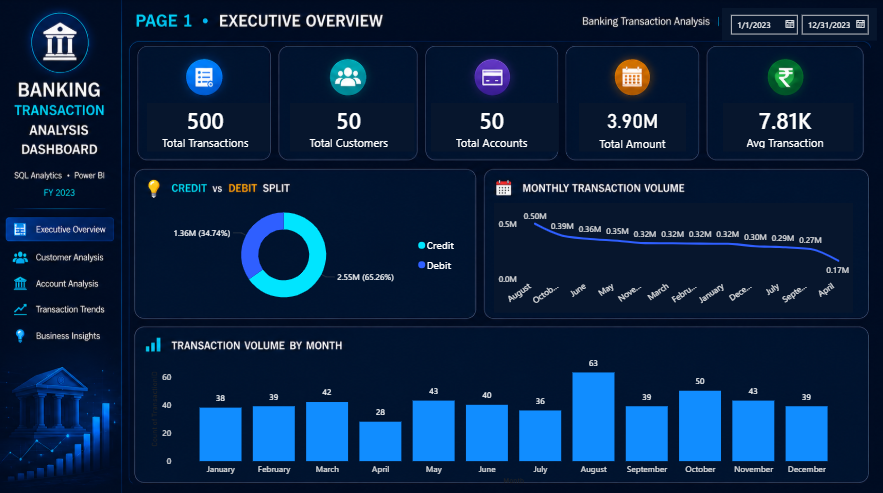

The page's visual inventory and layout, read from the dashboard file:
{"tool":"powerbi","page":{"name":"Page 1","canvas":[1280,720],"ordinal":0},"visuals":[{"type":"cardVisual","fields":{"Data":["banking_transactions.Total Transactions"]},"box":[212.9,150,177.1,70],"z":0},{"type":"cardVisual","fields":{"Data":["banking_transactions.Total Customers"]},"box":[418.6,150,178.6,70],"z":1000},{"type":"cardVisual","fields":{"Data":["banking_transactions.Total Accounts"]},"box":[621.4,150,184.3,70],"z":2000},{"type":"cardVisual","fields":{"Data":["banking_transactions.Avg Transaction"]},"box":[1042,150,188,70],"z":3000},{"type":"donutChart","fields":{"Category":["banking_transactions.TransactionType"],"Y":["Sum(banking_transactions.Amount)"]},"box":[213.3,285,456.7,166.7],"z":4000},{"type":"lineChart","fields":{"Category":["banking_transactions.Month"],"Y":["Sum(banking_transactions.Amount)"]},"box":[713.3,293.3,516.7,158.3],"z":5000},{"type":"clusteredColumnChart","fields":{"Category":["banking_transactions.Month"],"Y":["CountNonNull(banking_transactions.TransactionID)"]},"box":[213.3,501.7,1016.7,203.3],"z":6000},{"type":"slicer","fields":{"Values":["banking_transactions.TransactionDate"]},"box":[1041.7,13.3,223.3,46.7],"z":7000},{"type":"card","fields":{"Values":["banking_transactions.Total Amount"]},"box":[835.7,150,154.3,70],"z":8000},{"type":"actionButton","box":[15.7,352.9,151.4,38.6],"z":9000},{"type":"actionButton","box":[15.7,391.4,151.4,38.6],"z":10000},{"type":"actionButton","box":[15.7,430,151.4,38.6],"z":11000},{"type":"actionButton","box":[15.7,468.6,151.4,38.6],"z":12000}]}

Visuals, with their boxes on the page's 1280x720 design canvas (x1, y1, x2, y2). These are canvas units, not pixel positions in the 883x493 screenshot, which may show the page scaled, cropped or inside an application window:
cardVisual - banking_transactions.Total Transactions: 213 150 390 220
cardVisual - banking_transactions.Total Customers: 419 150 597 220
cardVisual - banking_transactions.Total Accounts: 621 150 806 220
cardVisual - banking_transactions.Avg Transaction: 1042 150 1230 220
donutChart - banking_transactions.TransactionType x Sum(banking_transactions.Amount): 213 285 670 452
lineChart - banking_transactions.Month x Sum(banking_transactions.Amount): 713 293 1230 452
clusteredColumnChart - banking_transactions.Month x CountNonNull(banking_transactions.TransactionID): 213 502 1230 705
slicer - banking_transactions.TransactionDate: 1042 13 1265 60
card - banking_transactions.Total Amount: 836 150 990 220
actionButton: 16 353 167 392
actionButton: 16 391 167 430
actionButton: 16 430 167 469
actionButton: 16 469 167 507
